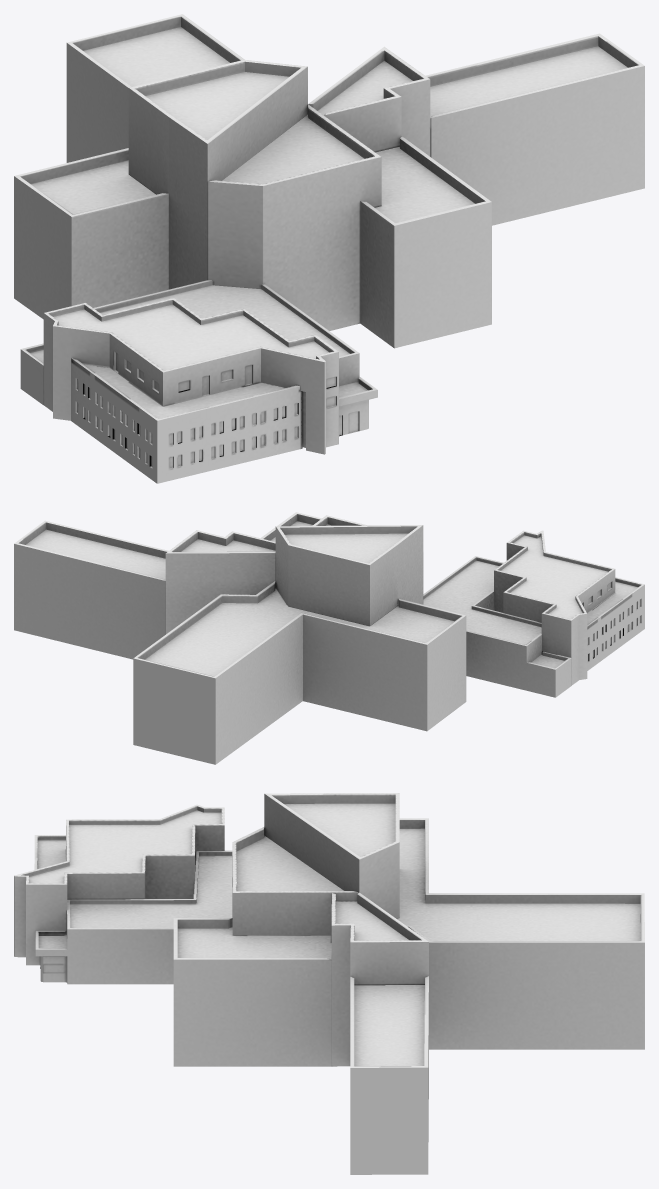
File: kavala_building06.glb
3 views of the same model, one above another, from view 1: azimuth 30°, elevation 25°; view 2: azimuth 150°, elevation 25°; view 3: azimuth 270°, elevation 25° (orthographic). The views are drawn at different scales.
Parts seen in each view (by area): view 1: building_v004; view 2: building_v004; view 3: building_v004.
Part boxes in pixels (x1=…): building_v004: x1=14, y1=14, x2=644, y2=483; building_v004: x1=14, y1=512, x2=644, y2=764; building_v004: x1=14, y1=793, x2=644, y2=1174.
Bounding box in the file's own units: 6.97 × 1.95 × 6.42.
1 material, 1 textured.
